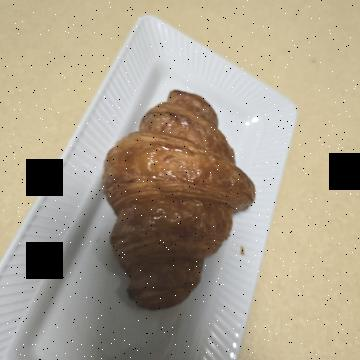croissant: (93, 97, 336, 262)
